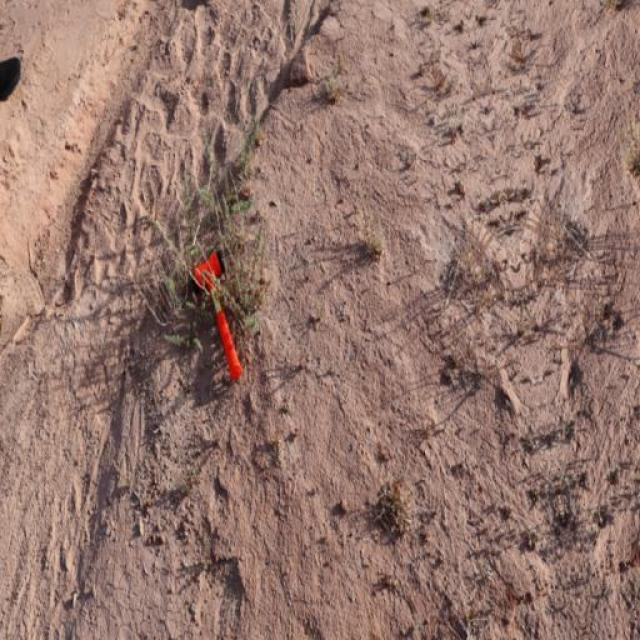mallet: (190, 249, 244, 381)
